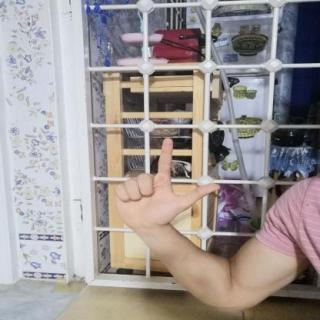LAAM: (102, 130, 230, 237)
